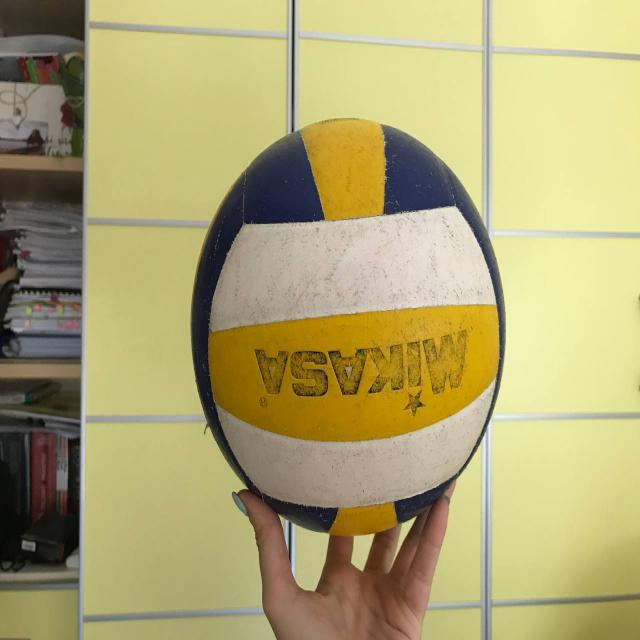Ball: (187, 111, 509, 544)
